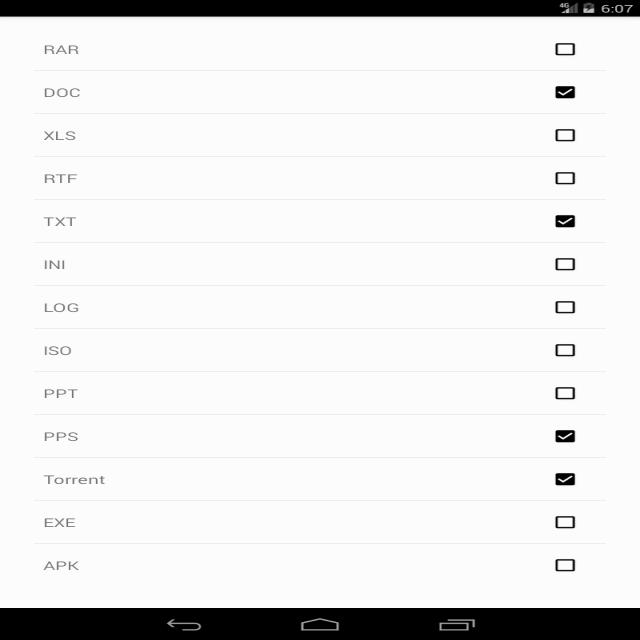CheckBox: (547, 340, 581, 362), (547, 553, 581, 575), (544, 512, 580, 532), (553, 208, 582, 230), (552, 468, 582, 488), (547, 429, 580, 447), (556, 81, 582, 103), (552, 170, 582, 189)
TextView: (36, 295, 90, 318), (37, 36, 89, 58), (41, 556, 90, 578), (36, 169, 86, 189), (36, 423, 87, 441)
